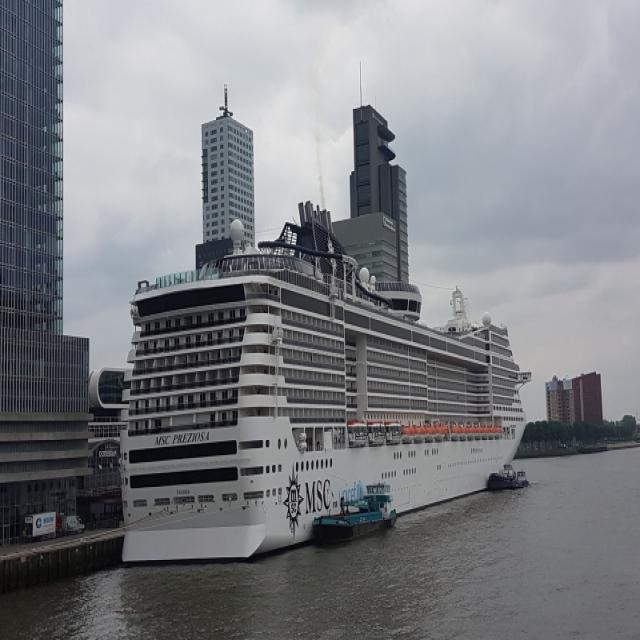cruises: (113, 196, 536, 572)
